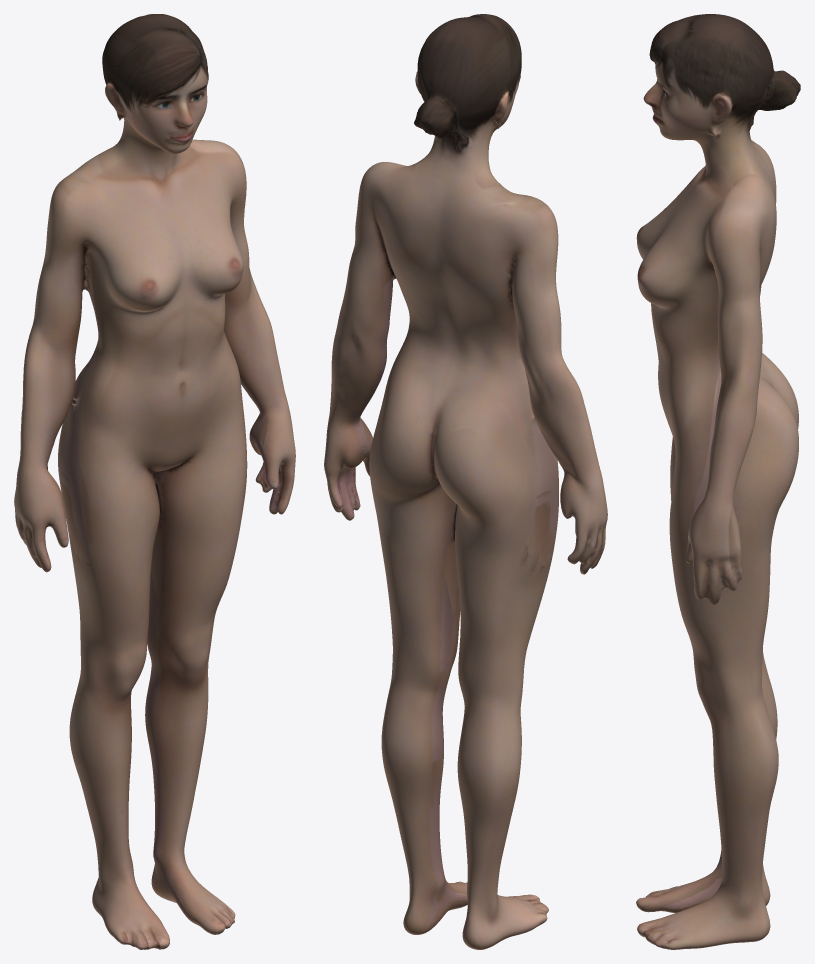
Rendered from teenfemale.glb.
3 renders of one model, left to right at view 1: azimuth 30°, elevation 25°; view 2: azimuth 150°, elevation 25°; view 3: azimuth 270°, elevation 25°, orthographic.
Bounding box in the file's own units: 0.633 × 2 × 0.3306.
1 material, 1 textured.
